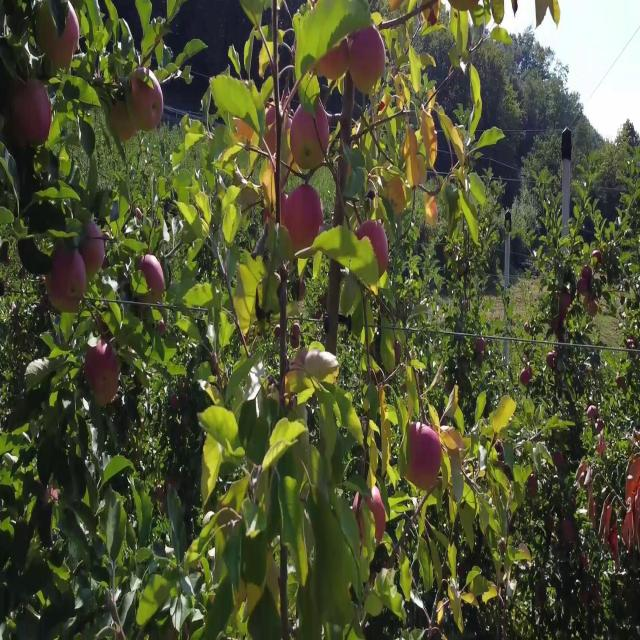apple: (12, 78, 54, 149), (36, 7, 81, 71), (288, 106, 331, 172), (284, 184, 324, 254), (348, 28, 388, 96), (48, 248, 88, 316), (408, 426, 444, 496), (84, 341, 120, 407), (128, 71, 165, 133), (404, 113, 439, 171), (292, 106, 324, 169), (356, 220, 390, 276), (356, 490, 388, 546), (80, 220, 107, 277), (108, 99, 136, 146), (140, 255, 166, 304), (324, 35, 350, 84), (236, 575, 264, 619), (312, 106, 331, 164), (440, 426, 464, 462), (388, 177, 409, 217), (260, 163, 277, 212), (264, 106, 279, 156), (408, 163, 428, 188), (300, 540, 310, 590), (564, 519, 579, 544), (624, 511, 635, 544), (492, 0, 505, 27), (580, 270, 593, 297), (424, 7, 440, 28), (576, 462, 588, 487), (628, 476, 640, 500), (580, 270, 593, 292), (628, 455, 640, 478), (536, 7, 548, 28), (528, 476, 539, 498), (560, 291, 572, 311), (592, 583, 602, 606), (520, 369, 532, 388), (580, 277, 591, 297), (588, 298, 599, 318), (596, 440, 608, 457), (632, 490, 640, 514), (592, 248, 603, 265), (612, 526, 620, 549), (580, 590, 589, 610), (552, 7, 561, 27), (604, 504, 612, 526), (588, 405, 599, 420), (476, 341, 487, 356), (580, 554, 589, 571), (548, 355, 557, 370), (596, 419, 604, 434), (556, 455, 564, 469), (616, 376, 624, 389), (560, 312, 567, 324), (636, 433, 640, 446)
